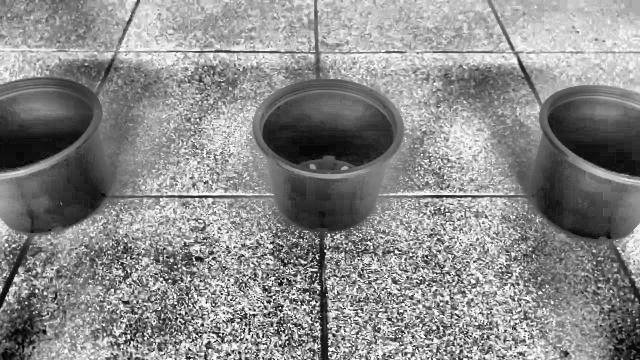pot: (253, 79, 404, 231), (0, 78, 110, 234), (531, 86, 640, 241)
